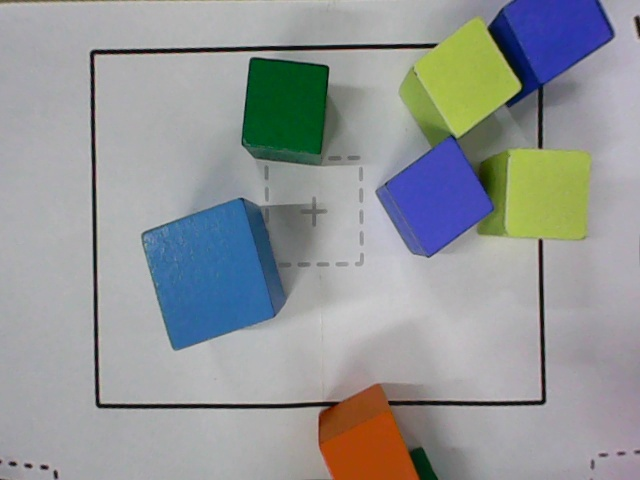upside of big cube: (139, 198, 275, 352)
upside of small cube: (413, 16, 523, 139), (384, 135, 494, 257), (500, 0, 616, 87), (242, 58, 329, 153), (504, 149, 590, 241), (320, 409, 421, 479)
